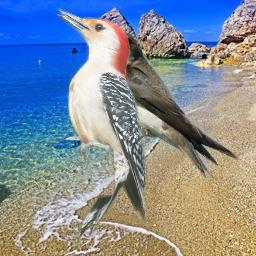Swallow: (103, 31, 239, 180)
Woodpecker: (52, 8, 147, 243)
